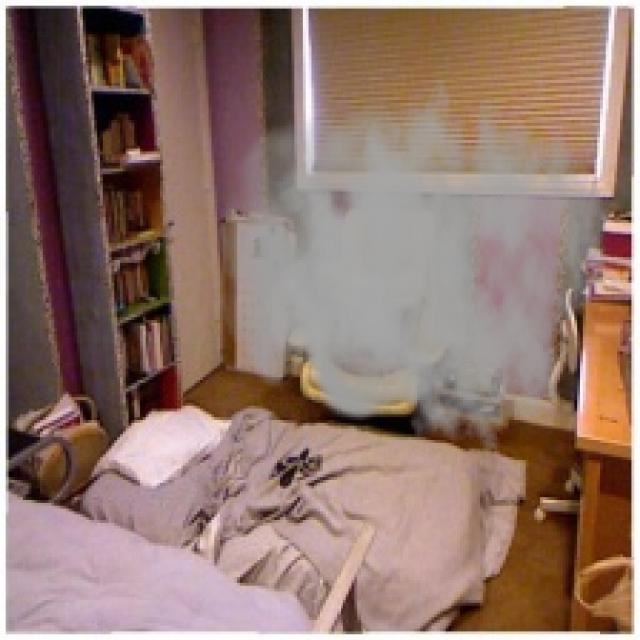Smoke: (217, 57, 609, 454)
